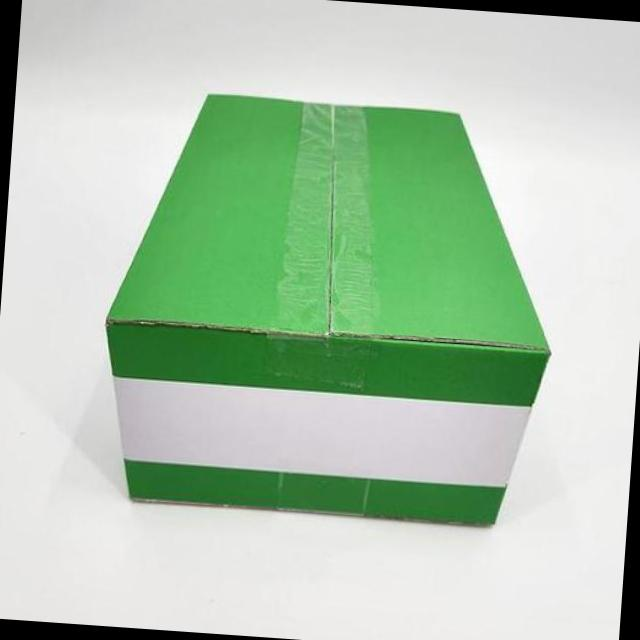box: (104, 95, 551, 528)
